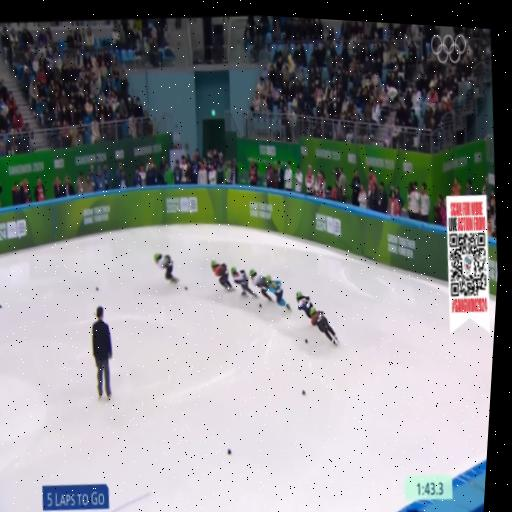Skater: (250, 270, 291, 310), (310, 307, 338, 345), (231, 268, 257, 298), (154, 253, 178, 282), (211, 261, 234, 291), (296, 292, 312, 317)
